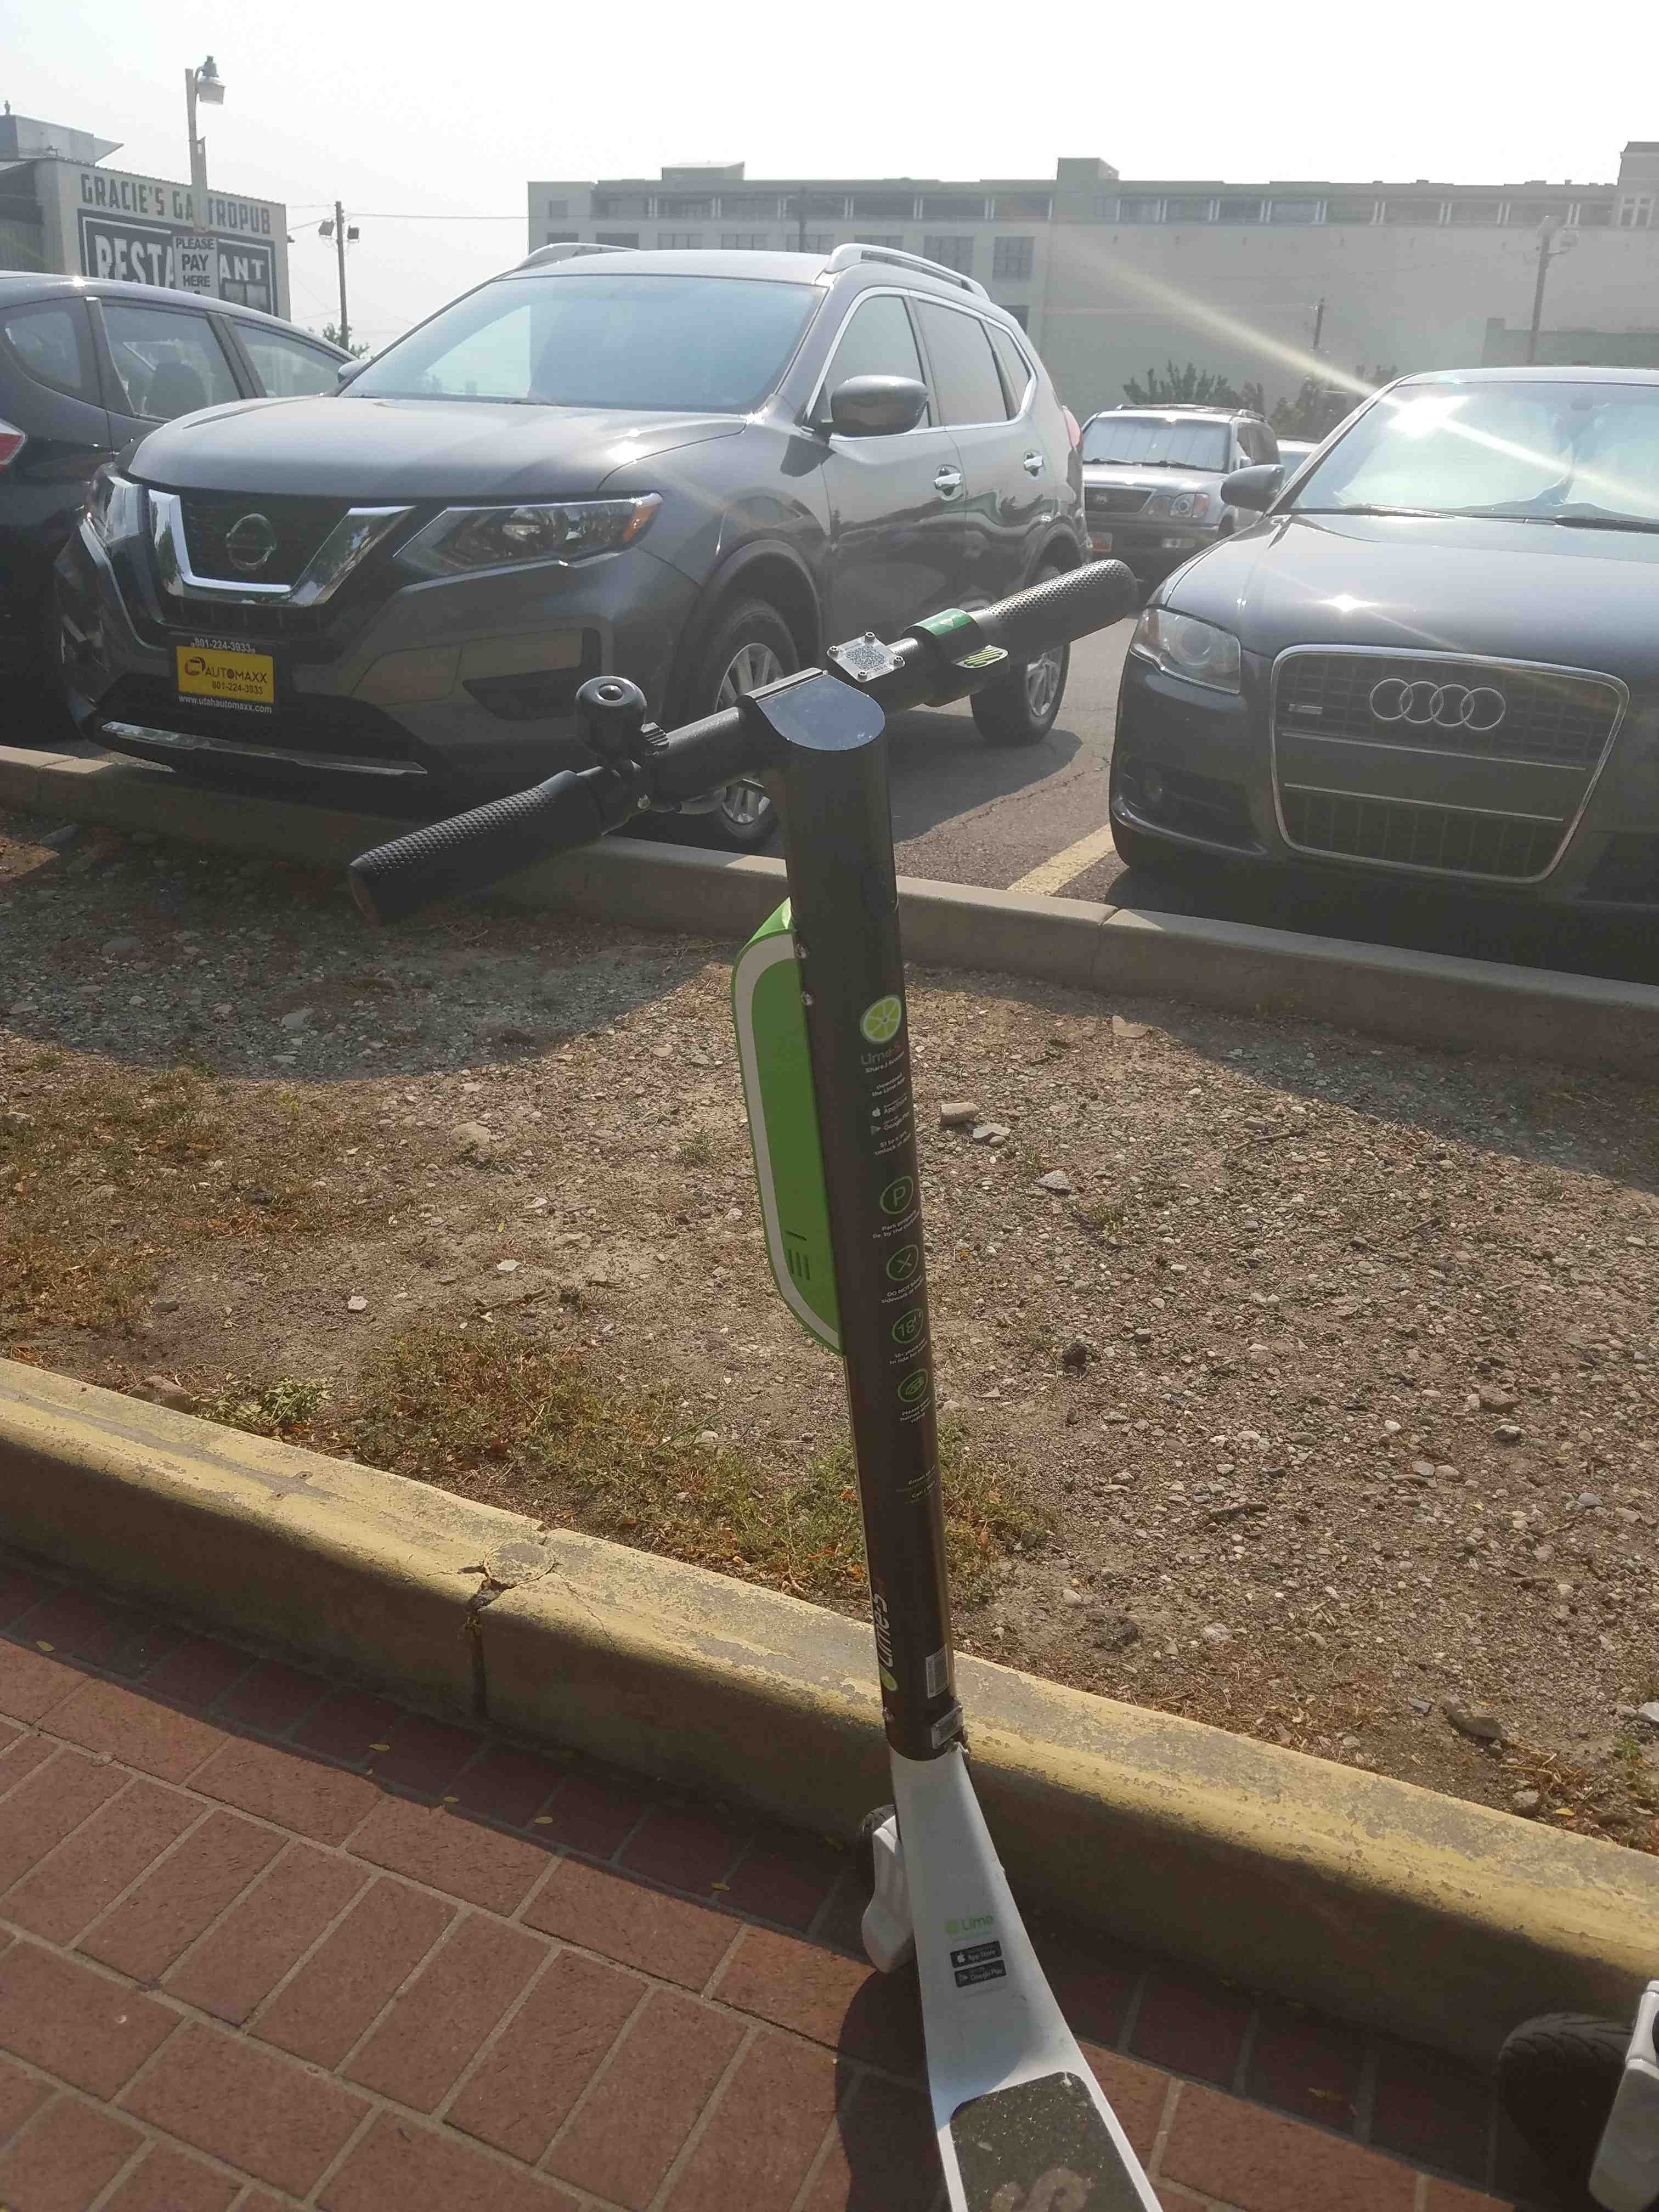scooter: (322, 634, 1615, 2212)
